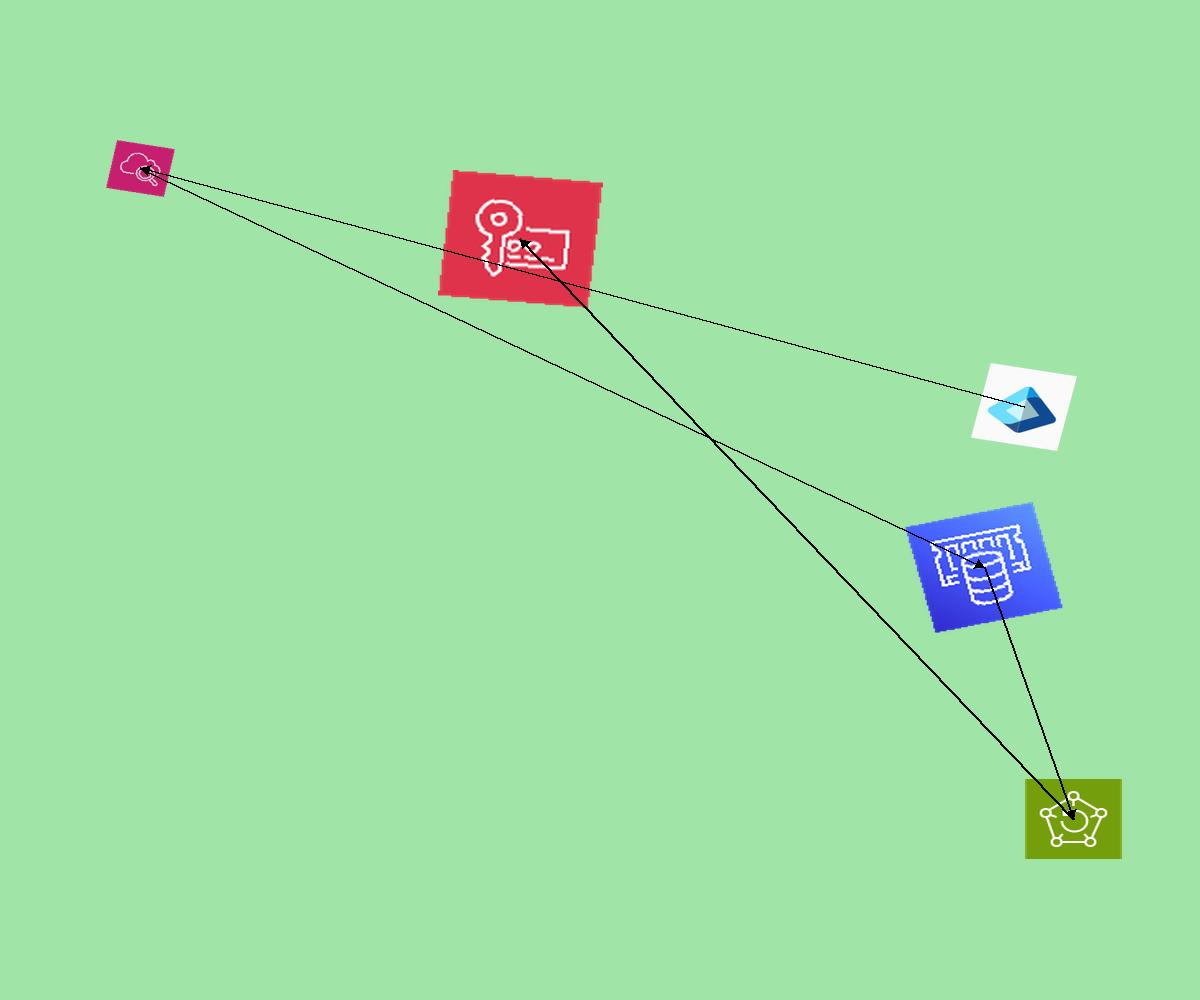AWS-Backup: (1024, 778, 1123, 860)
AWS-CloudWatch: (106, 140, 175, 197)
AWS-ElastiCache: (904, 501, 1064, 634)
AWS-Key-Management-Service: (438, 170, 603, 308)
Azure_microsoft_entra: (971, 363, 1077, 451)
